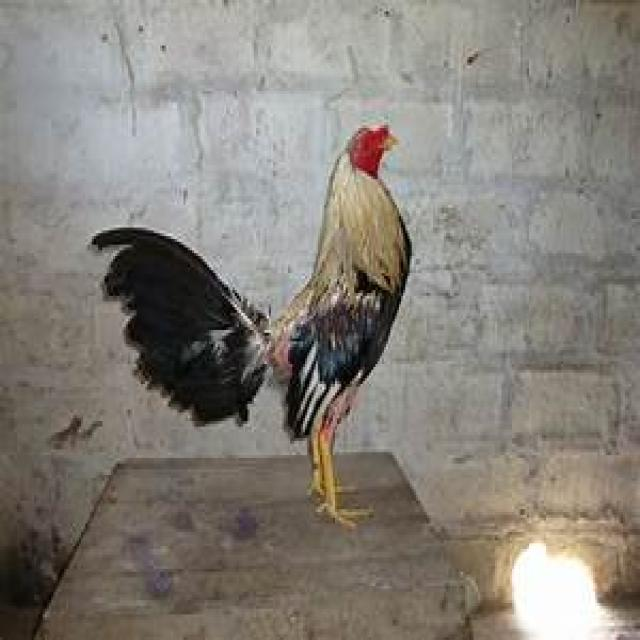hen: (94, 125, 414, 529)
